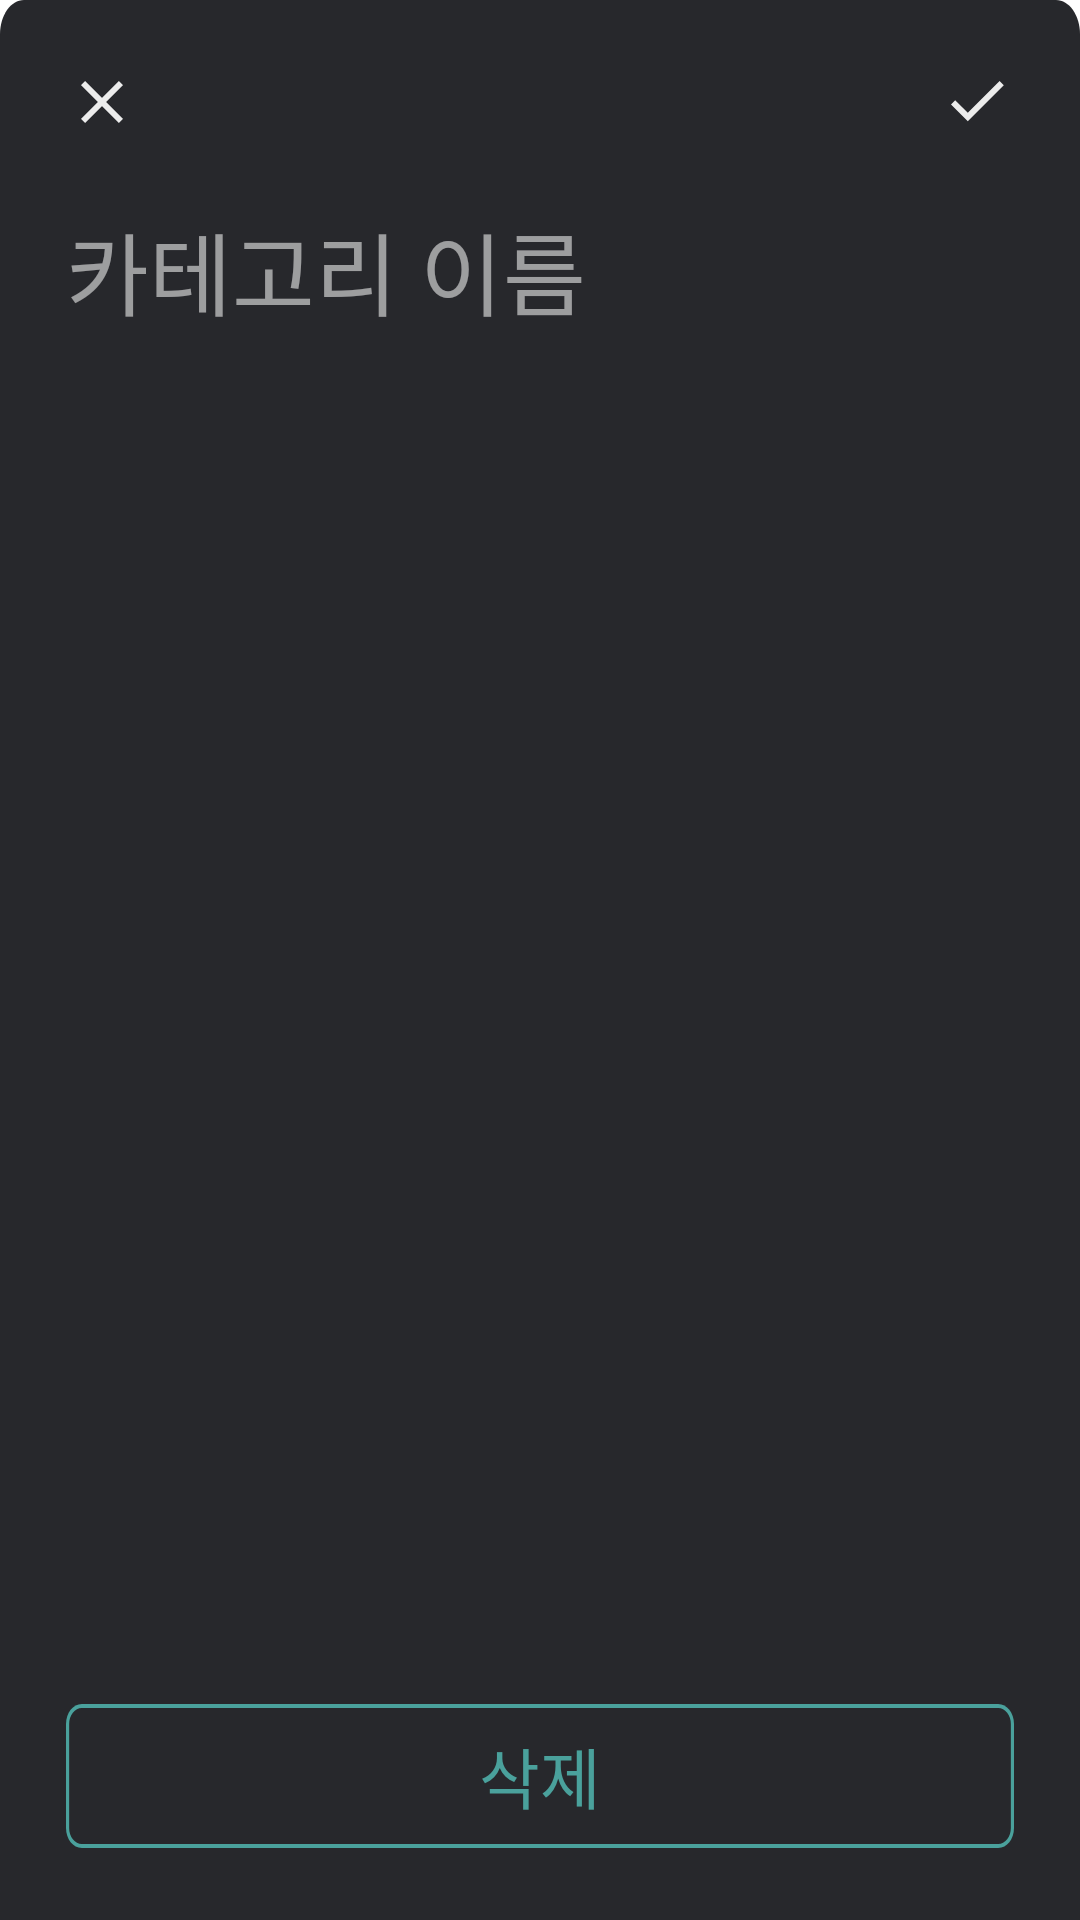

Where to tap for icons on this 1080×1920 app screen, as point (x, y):
cate cancel: point (102, 102)
cate ok: point (977, 101)
